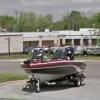Boat: (15, 44, 86, 89)
